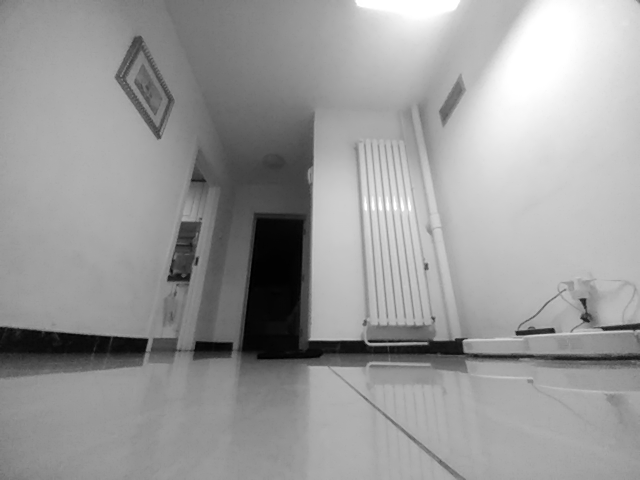others: (253, 347, 325, 362)
